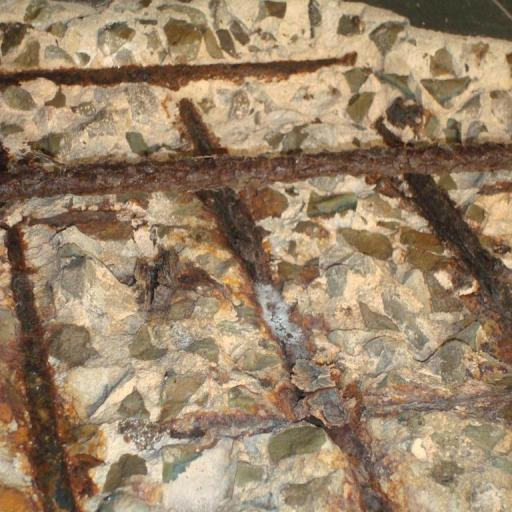spalling: (0, 48, 510, 512)
